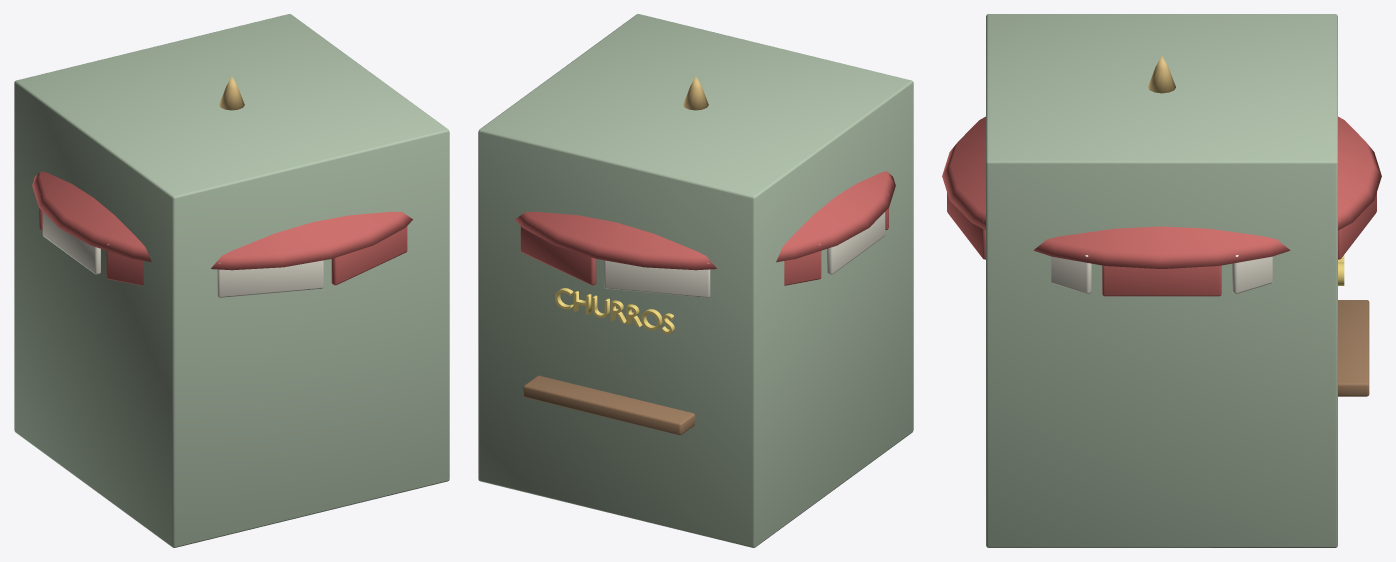
File: chiosco_churros.glb
3 views of the same model, side by side, from view 1: azimuth 30°, elevation 25°; view 2: azimuth 150°, elevation 25°; view 3: azimuth 270°, elevation 25° (orthographic). The views are drawn at different scales.
Visible parts, largest first — view 1: COL_churros, tenda, festone_5, festone_4, festone_7, festone_6, puntale; view 2: COL_churros, tenda, bancone, festone_9, festone_0, txt_churros, festone_7, festone_8, puntale; view 3: COL_churros, tenda, festone_2, bancone, festone_1, festone_3, festone_0, festone_4, puntale.
Part boxes in pixels (x1,y1,x2,y2): COL_churros: (14,14,449,547); tenda: (32,171,412,270); festone_5: (217,260,323,297); festone_4: (331,217,407,285); festone_7: (42,212,100,274); festone_6: (106,243,143,285); puntale: (219,76,244,110); COL_churros: (478,14,913,547); tenda: (515,171,895,270); bancone: (523,375,695,435); festone_9: (604,260,710,297); festone_0: (520,217,596,285); txt_churros: (555,288,674,334); festone_7: (827,212,885,274); festone_8: (784,243,821,285); puntale: (683,76,708,110); COL_churros: (986,14,1337,547); tenda: (942,116,1381,268); festone_2: (1102,265,1221,296); bancone: (1338,300,1369,396); festone_1: (1232,255,1272,293); festone_3: (1051,255,1091,293); festone_0: (1338,193,1376,259); festone_4: (947,193,985,259); puntale: (1148,56,1175,93).
Size of the model in its own units: 3.5 by 3.68 by 3.5.
